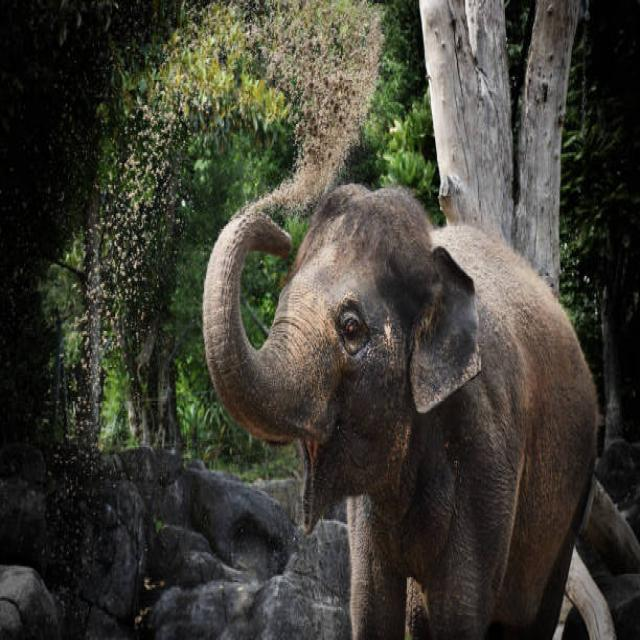Elephant: (203, 175, 602, 640)
